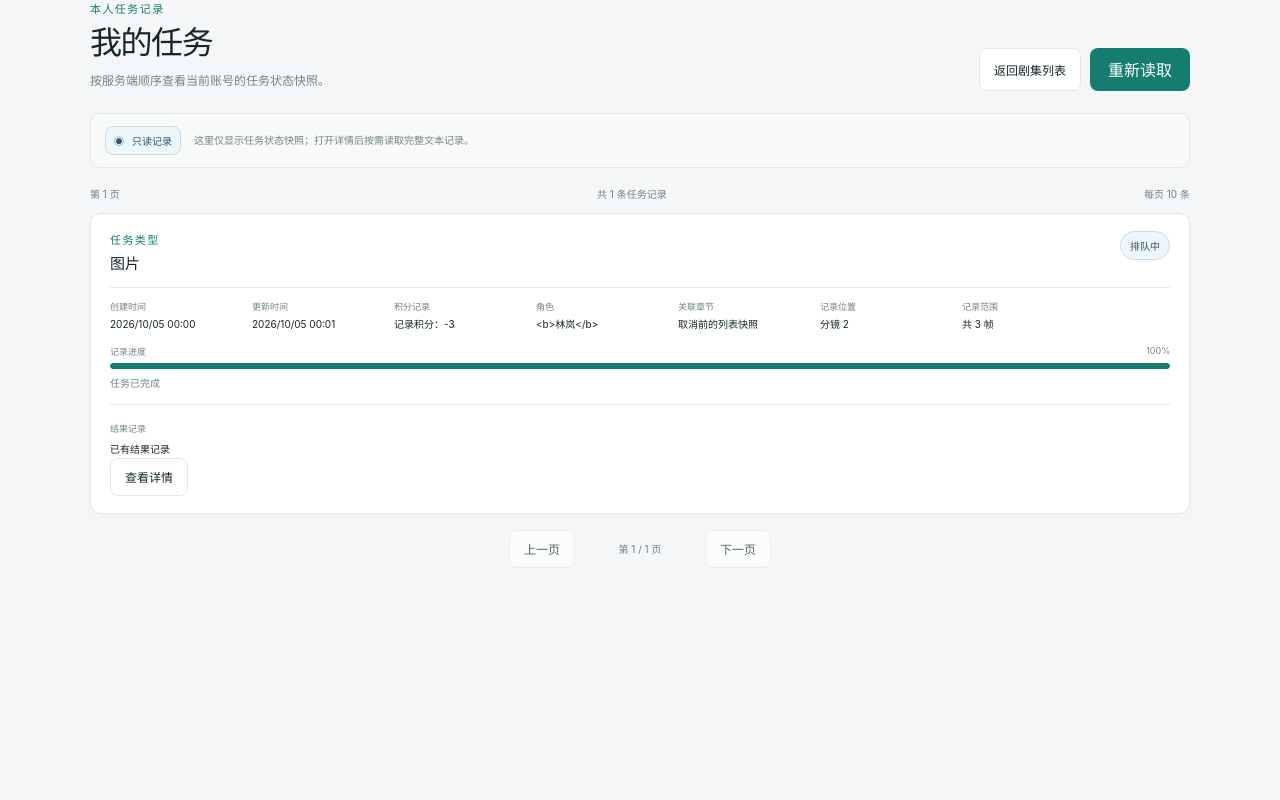
it: read-only task page › refreshes the task list after cancel without closing the open detail
Expected: the text "取消前的列表快照" is shown, [678,318,758,330]
Step 1. Click the button with aria-label "查看详情：图片" → (149, 477), box [110,458,188,496]
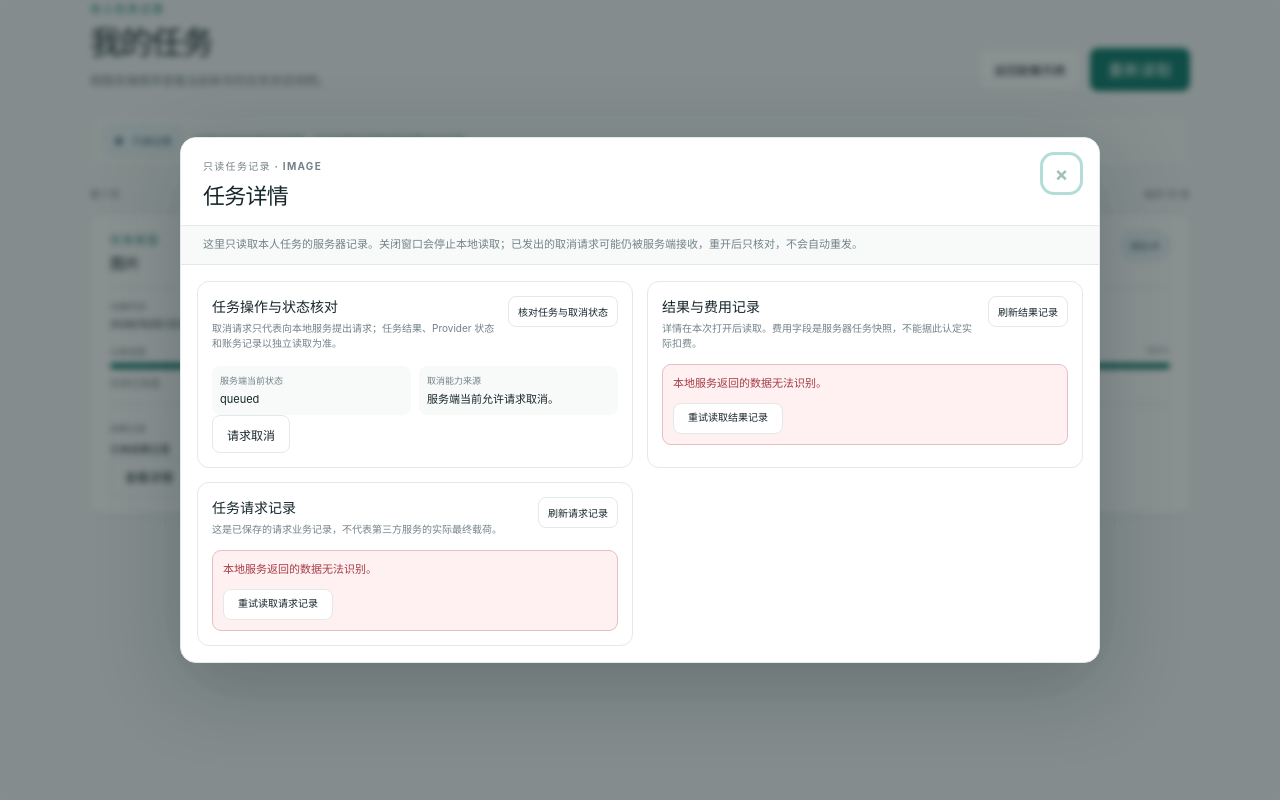
Now the dialog "任务详情" is shown, box [180,138,1100,663]
Now the text "queued" is shown, box [220,392,259,406]
Step 2. Click the button "请求取消" → (251, 434), box [212,415,290,453]
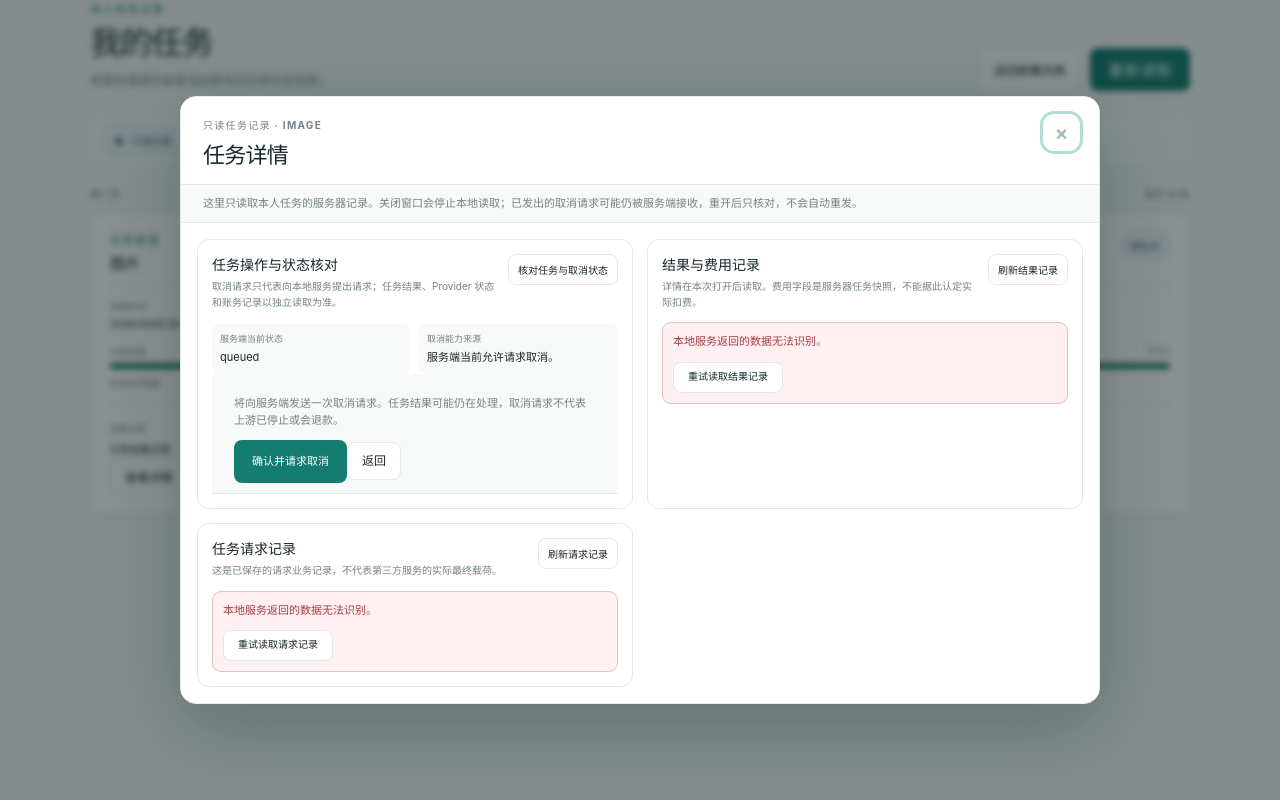
Step 3. Click the button "确认并请求取消" → (290, 462), box [234,440,347,483]
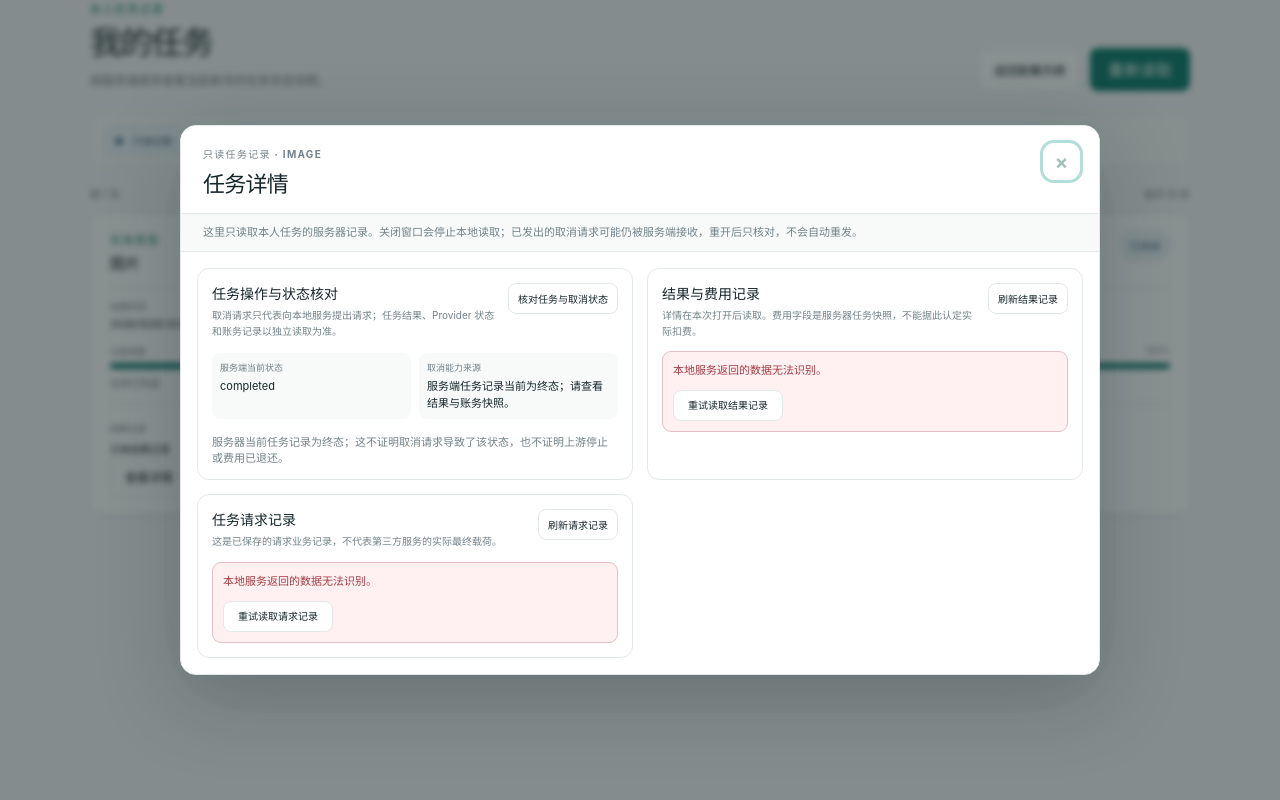
Now the dialog "任务详情" is shown, box [180,125,1100,675]
Now the text "独立核对后的列表快照" is shown, box [678,318,778,330]
